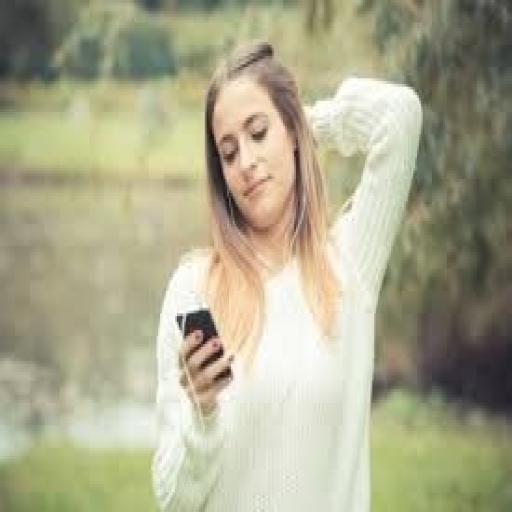listening_to_music: (149, 39, 426, 509)
